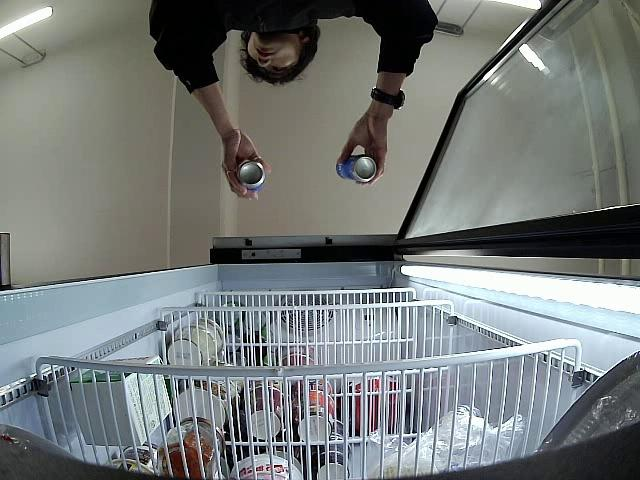00_hand: (336, 112, 387, 184), (221, 131, 271, 200)
15_letsbe: (335, 156, 377, 181), (238, 159, 267, 190)
